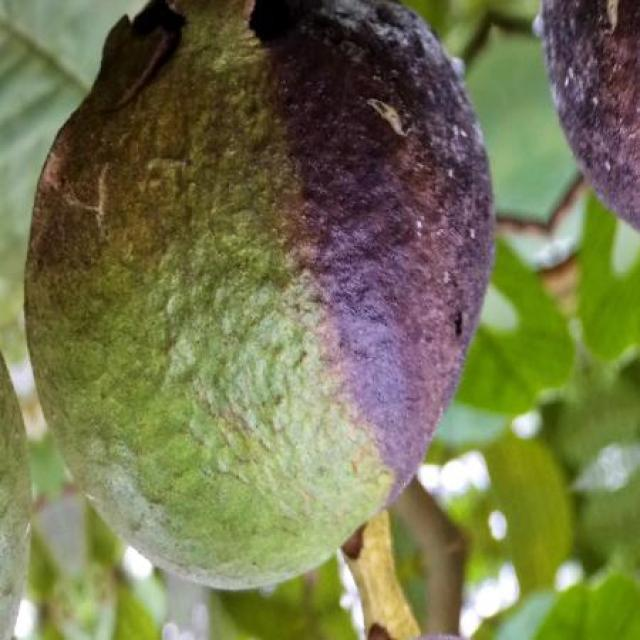Styler and Root: (25, 0, 492, 588)
